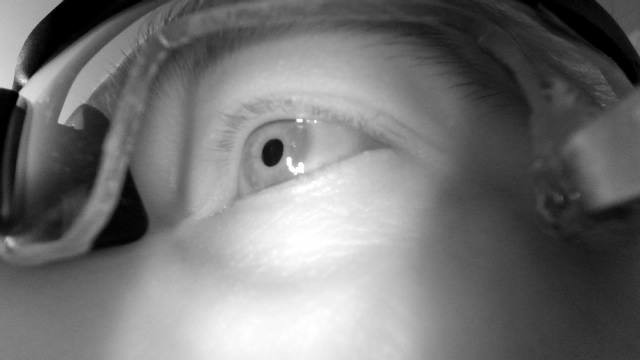pupil: (261, 138, 284, 168)
